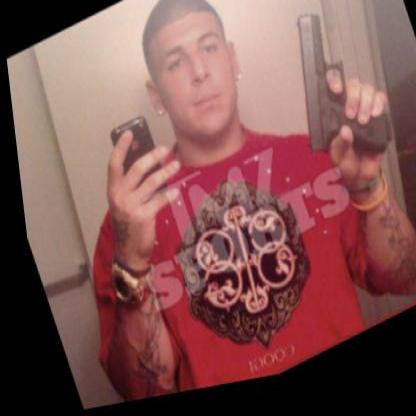pistol: (257, 0, 398, 206)
